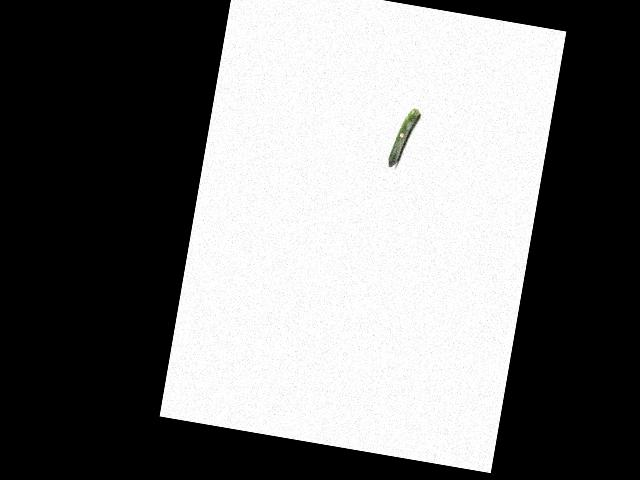cucumber: (387, 105, 420, 170)
